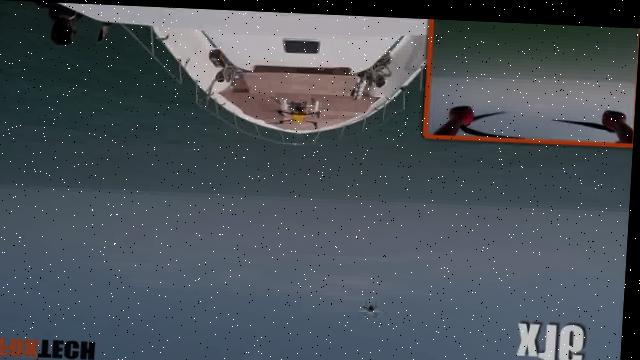drone: (264, 98, 336, 133), (352, 297, 394, 326)
